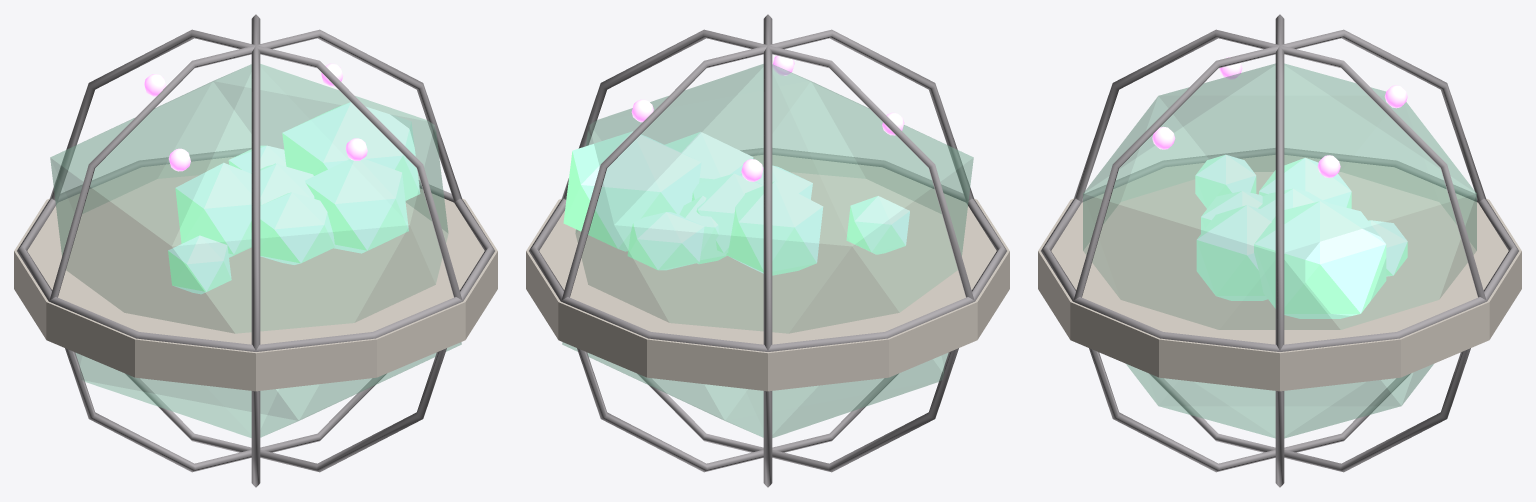
The model's file is greenhouse.glb.
3 views of the same model, side by side, from view 1: azimuth 30°, elevation 25°; view 2: azimuth 150°, elevation 25°; view 3: azimuth 270°, elevation 25° (orthographic).
Visible parts, largest first — view 1: glass_dome, base, equator, plant.004, plant.005, rib, plant.001, rib.003, rib.005, rib.002, plant.003, plant.007 (+4 smaller); view 2: glass_dome, base, plant.005, equator, plant.001, rib, rib.004, rib.001, rib.003, plant, plant.007, rib.002 (+5 smaller); view 3: glass_dome, base, plant.005, equator, plant.004, rib.002, rib.001, rib.004, rib.005, rib, plant.001, plant.007 (+4 smaller).
Part boxes in pixels (x1,y1,x2,y2): glass_dome: (50, 64, 461, 437); base: (14, 156, 497, 391); equator: (17, 148, 494, 351); plant.004: (305, 158, 408, 253); plant.005: (282, 102, 420, 200); rib: (52, 29, 462, 472); plant.001: (175, 162, 261, 257); rib.003: (49, 35, 452, 471); rib.005: (84, 29, 462, 471); rib.002: (49, 30, 445, 472); plant.003: (250, 192, 334, 264); plant.007: (168, 235, 231, 294); glass_dome: (562, 64, 973, 437); base: (526, 155, 1009, 391); plant.005: (563, 131, 701, 251); equator: (529, 148, 1006, 351); plant.001: (726, 181, 823, 275); rib: (586, 29, 974, 472); rib.004: (561, 29, 943, 457); rib.001: (584, 35, 974, 472); rib.003: (561, 30, 951, 471); plant: (627, 212, 704, 270); plant.007: (846, 196, 909, 254); rib.002: (763, 14, 772, 487); glass_dome: (1083, 63, 1476, 438); base: (1038, 155, 1521, 391); plant.005: (1254, 201, 1386, 318); equator: (1041, 148, 1518, 351); plant.004: (1196, 205, 1275, 300); rib.002: (1073, 29, 1454, 472); rib.001: (1100, 29, 1486, 469); rib.004: (1073, 30, 1469, 472); rib.005: (1101, 36, 1486, 471); rib: (1275, 27, 1284, 487); plant.001: (1259, 157, 1351, 208); plant.007: (1195, 154, 1256, 208).
Size of the model in its own units: 9.2 by 8.64 by 9.2.
